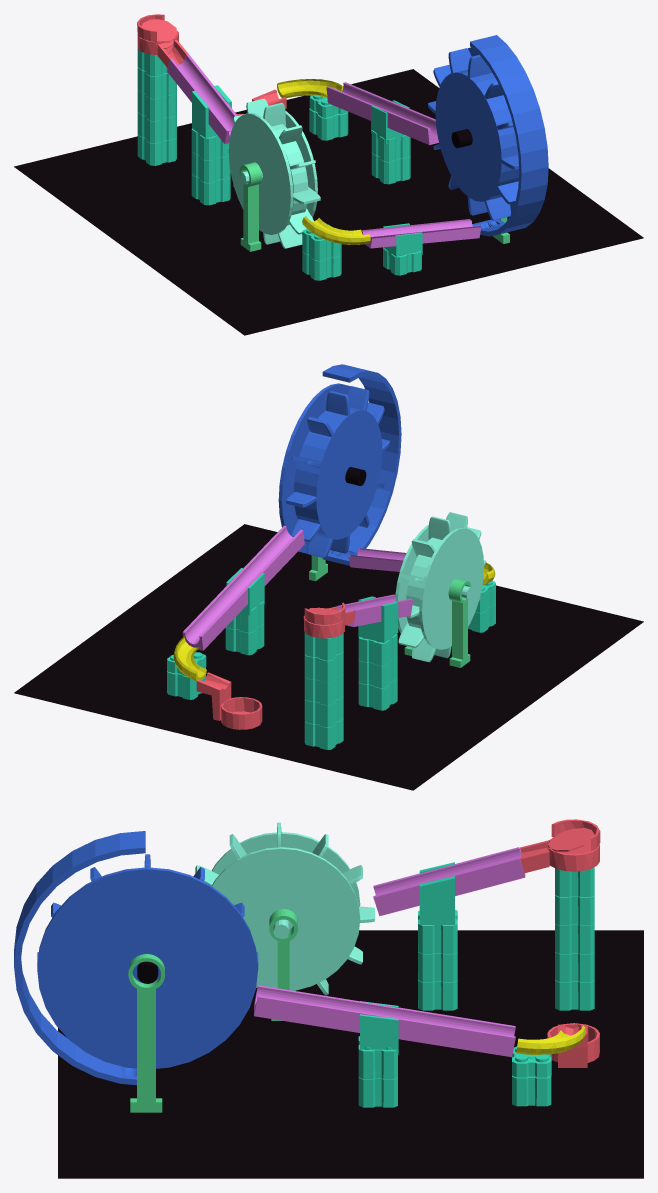
The model's file is slider_rail.glb.
3 views of the same model, one above another, from view 1: azimuth 30°, elevation 25°; view 2: azimuth 150°, elevation 25°; view 3: azimuth 270°, elevation 25° (orthographic). The views are drawn at different scales.
Parts seen in each view (by area): view 1: Floor, GearRoopback, Gear, RoopBackGearHolder, Tray_start_stand, RailHolder_0_stand, ShortRail_2, RailHolder_2_stand, ShortRail_0, ShortRail_1, Tray_start, CurveRailHolder_0_stand (+5 smaller); view 2: Floor, GearRoopback, Gear, RoopBackGearHolder, Tray_start_stand, ShortRail_2, RailHolder_0_stand, RailHolder_2_stand, Tray_goal, Gear_holder_r, Tray_start, ShortRail_0 (+4 smaller); view 3: Floor, RoopBackGearHolder, Gear, ShortRail_2, Tray_start_stand, RailHolder_0_stand, ShortRail_0, RailHolder_2_stand, Tray_start, CurveRailHolder_1_stand, Tray_goal, Gear_holder_l (+2 smaller).
Part boxes in pixels (left/top/right/bottom): Floor: left=14, top=69, right=643, bottom=335; GearRoopback: left=428, top=48, right=519, bottom=220; Gear: left=228, top=98, right=320, bottom=248; RoopBackGearHolder: left=468, top=35, right=548, bottom=243; Tray_start_stand: left=137, top=47, right=176, bottom=165; RailHolder_0_stand: left=191, top=85, right=231, bottom=205; ShortRail_2: left=326, top=82, right=438, bottom=144; RailHolder_2_stand: left=371, top=100, right=410, bottom=184; ShortRail_0: left=167, top=54, right=237, bottom=143; ShortRail_1: left=361, top=219, right=481, bottom=248; Tray_start: left=137, top=14, right=188, bottom=68; CurveRailHolder_0_stand: left=302, top=224, right=341, bottom=280; Floor: left=14, top=524, right=643, bottom=790; GearRoopback: left=286, top=386, right=389, bottom=558; Gear: left=395, top=512, right=485, bottom=662; RoopBackGearHolder: left=278, top=364, right=401, bottom=581; Tray_start_stand: left=304, top=632, right=343, bottom=749; ShortRail_2: left=182, top=525, right=304, bottom=650; RailHolder_0_stand: left=358, top=596, right=398, bottom=710; RailHolder_2_stand: left=225, top=568, right=264, bottom=655; Tray_goal: left=196, top=672, right=262, bottom=729; Gear_holder_r: left=448, top=578, right=471, bottom=667; Tray_start: left=303, top=602, right=355, bottom=638; ShortRail_0: left=336, top=594, right=413, bottom=626; Floor: left=58, top=930, right=643, bottom=1178; RoopBackGearHolder: left=14, top=831, right=258, bottom=1112; Gear: left=195, top=822, right=374, bottom=995; ShortRail_2: left=254, top=985, right=515, bottom=1057; Tray_start_stand: left=555, top=867, right=594, bottom=1010; RailHolder_0_stand: left=418, top=862, right=457, bottom=1010; ShortRail_0: left=373, top=847, right=525, bottom=916; RailHolder_2_stand: left=358, top=1001, right=398, bottom=1107; Tray_start: left=520, top=819, right=600, bottom=873; CurveRailHolder_1_stand: left=512, top=1046, right=551, bottom=1106; Tray_goal: left=547, top=1023, right=599, bottom=1067; Gear_holder_l: left=269, top=909, right=297, bottom=1020.
Size of the model in its own units: 22.28 by 10.98 by 23.95.
